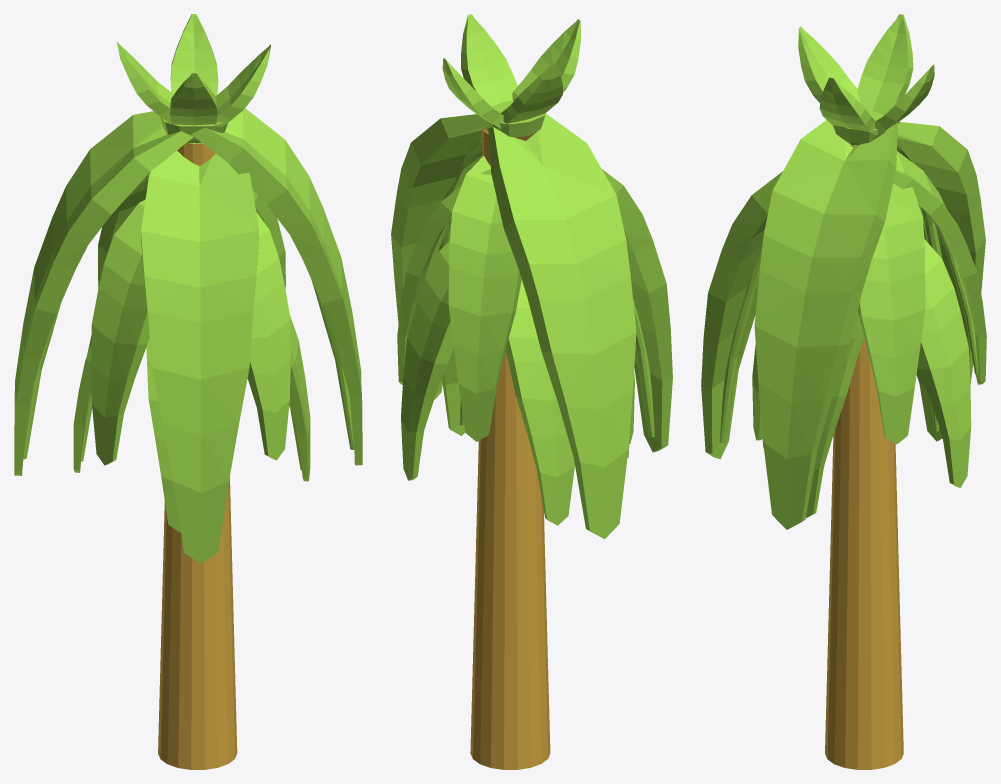
Rendered from DesertTree.fbx.
The picture shows the model from 3 angles, left to right: view 1: azimuth 30°, elevation 25°; view 2: azimuth 150°, elevation 25°; view 3: azimuth 270°, elevation 25°; orthographic projection.
Parts seen in each view (by area): view 1: Cube_002; view 2: Cube_002; view 3: Cube_002.
Part boxes in pixels (x1,y1,x2,y2): Cube_002: (14,14,362,769); Cube_002: (391,14,672,769); Cube_002: (701,14,986,769).
Bounding box in the file's own units: 1131 × 2687 × 981.
